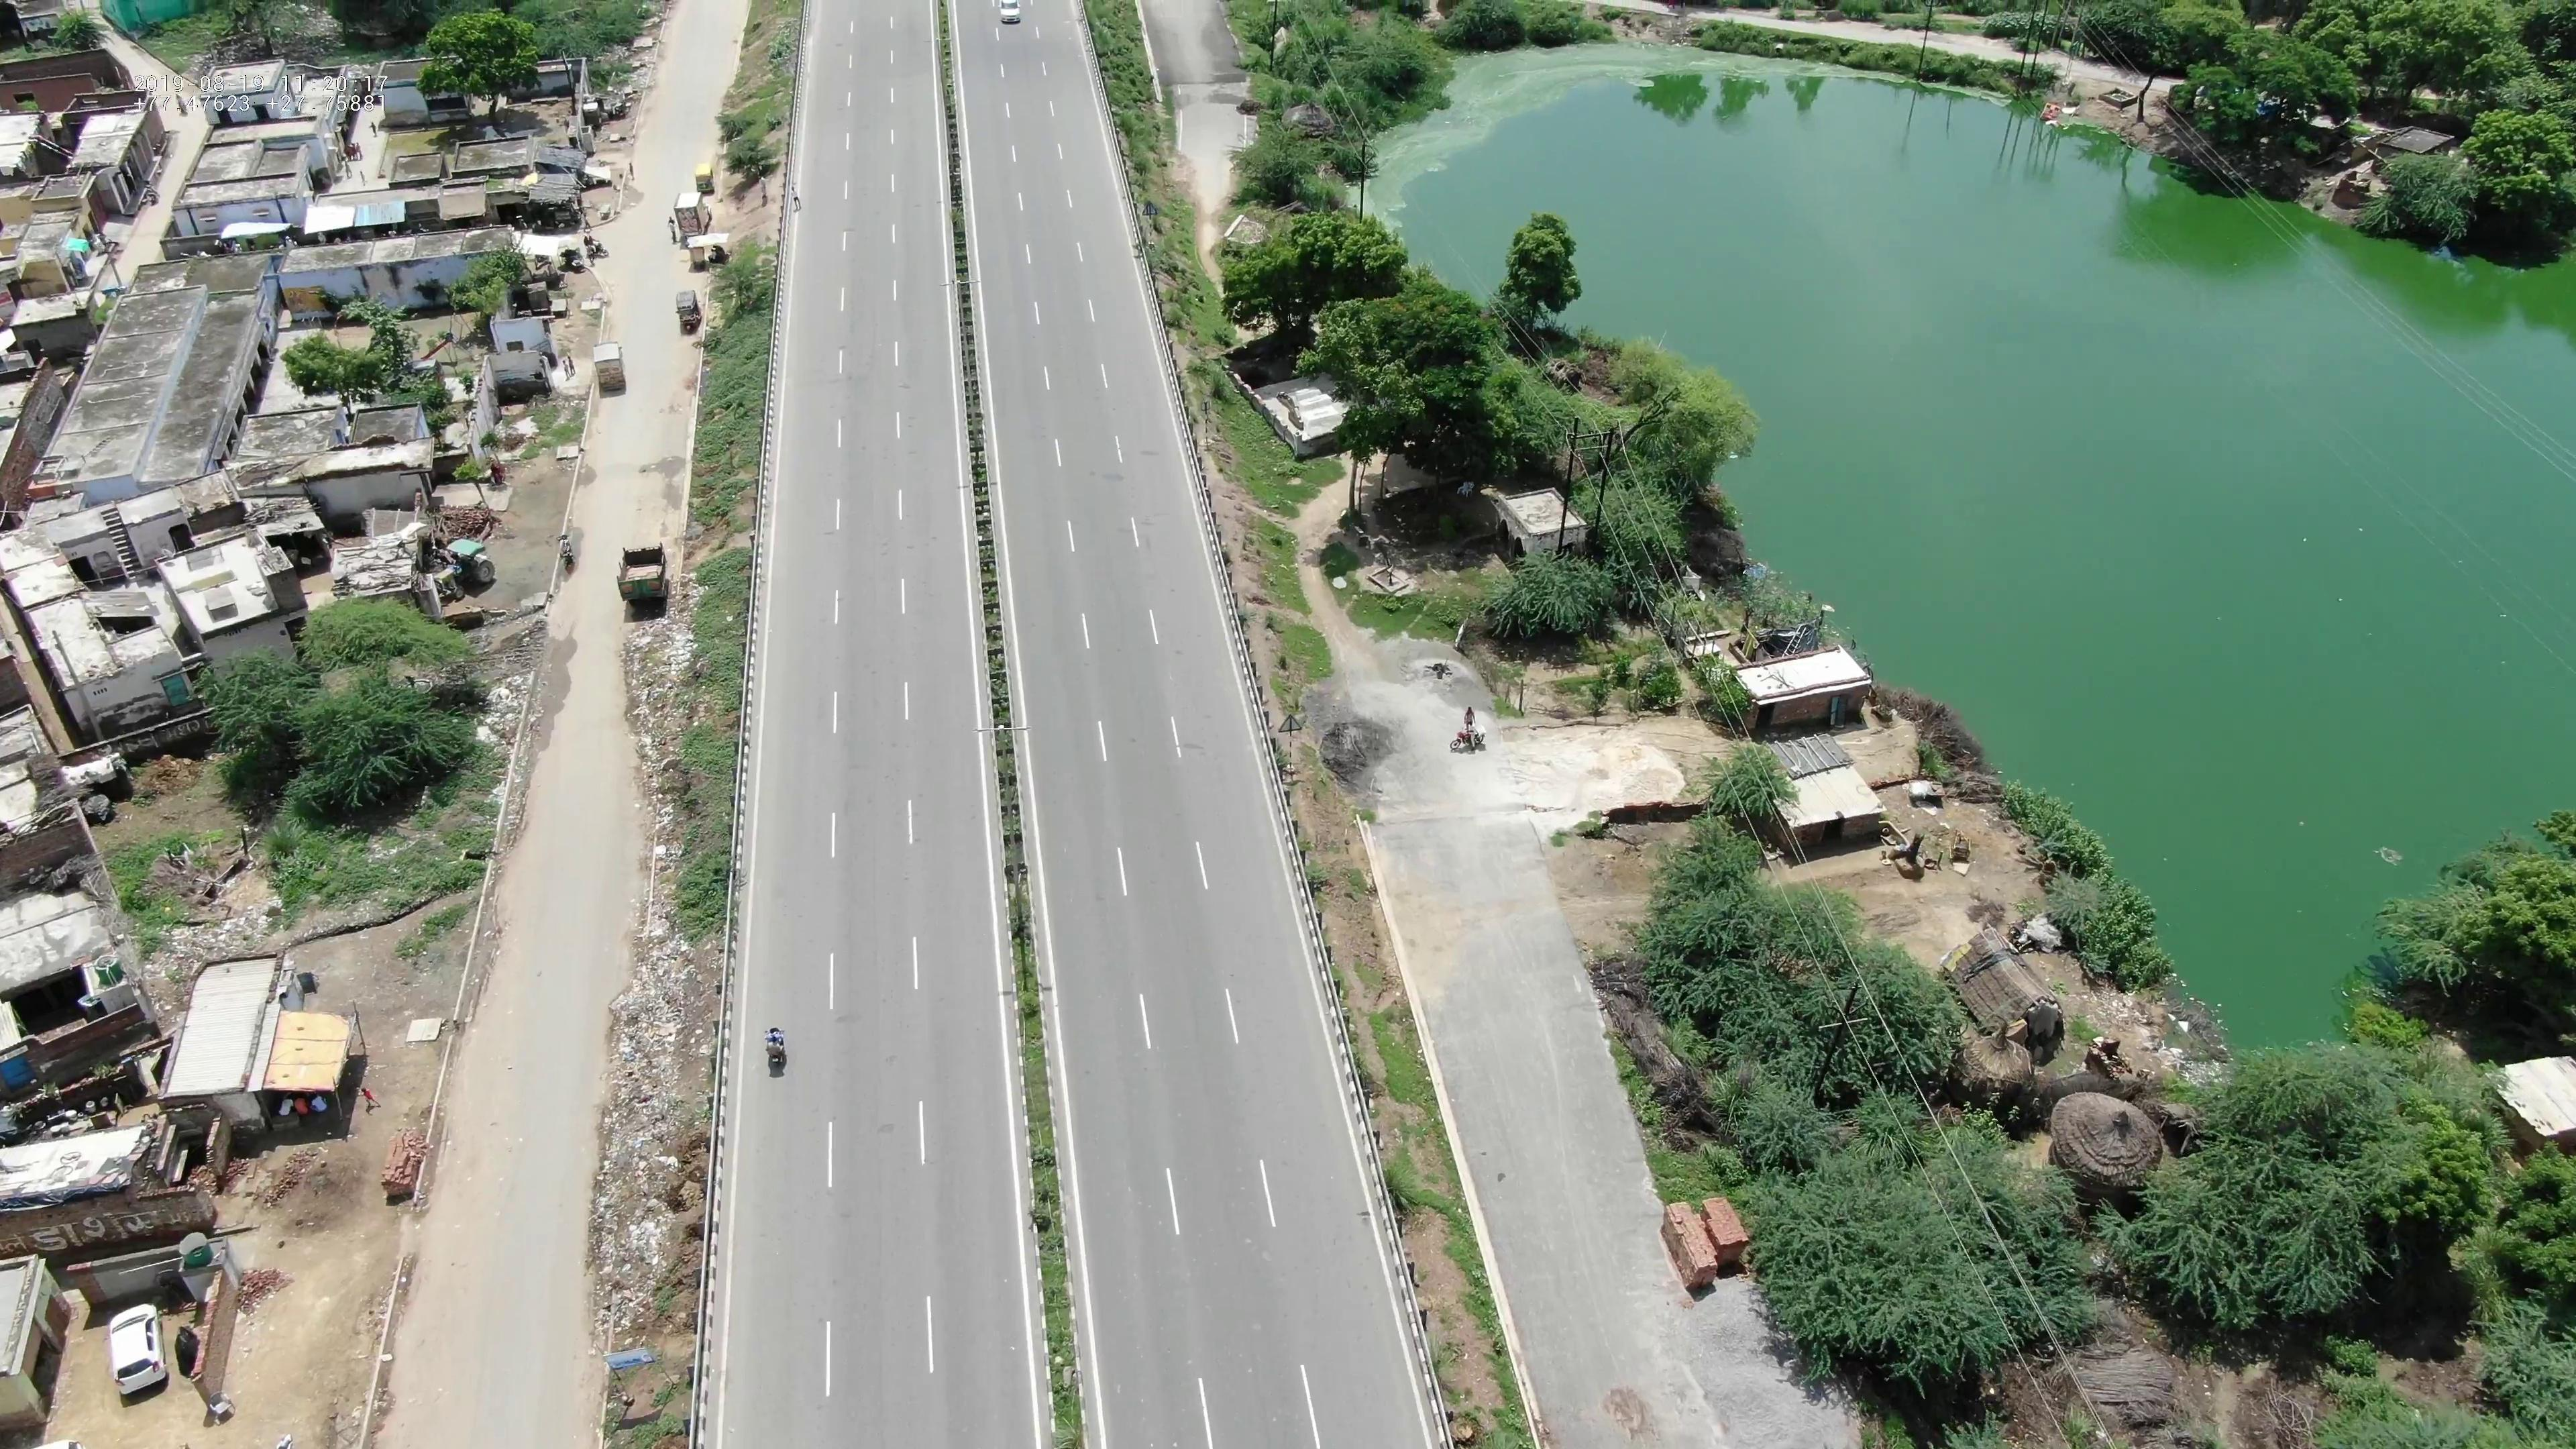Road_side_garbage: (594, 952, 688, 1300), (633, 628, 694, 777)
